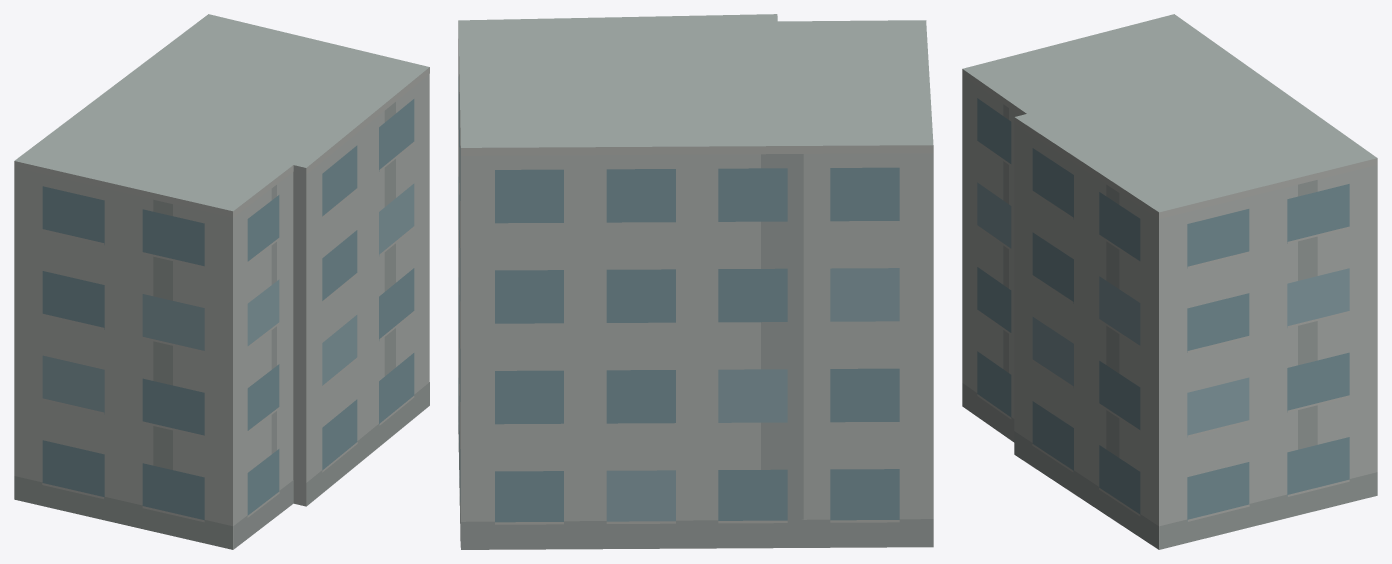
File: residential-cee3872a-f368-4259-94c5-79cd4b596929.glb
3 views of the same model, side by side, from view 1: azimuth 30°, elevation 25°; view 2: azimuth 150°, elevation 25°; view 3: azimuth 270°, elevation 25° (orthographic). The views are drawn at different scales.
Parts seen in each view (by area): view 1: residential-cee3872a-f368-4259-94c5-79cd4b596929.tmp; view 2: residential-cee3872a-f368-4259-94c5-79cd4b596929.tmp; view 3: residential-cee3872a-f368-4259-94c5-79cd4b596929.tmp.
Boxes of the visible parts, left/top/right/bottom form: residential-cee3872a-f368-4259-94c5-79cd4b596929.tmp: left=14, top=14, right=429, bottom=549; residential-cee3872a-f368-4259-94c5-79cd4b596929.tmp: left=458, top=14, right=933, bottom=549; residential-cee3872a-f368-4259-94c5-79cd4b596929.tmp: left=962, top=14, right=1377, bottom=549.
Size of the model in its own units: 15.39 by 12.2 by 13.61.
